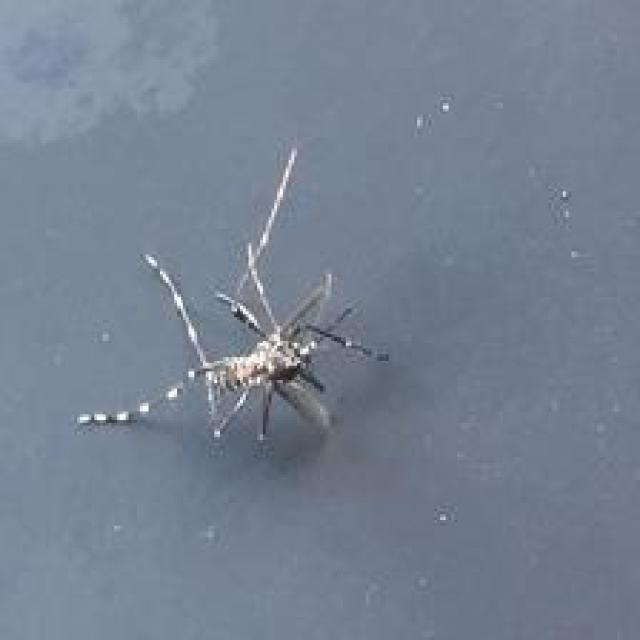Aedes albopictus: (75, 146, 392, 448)
